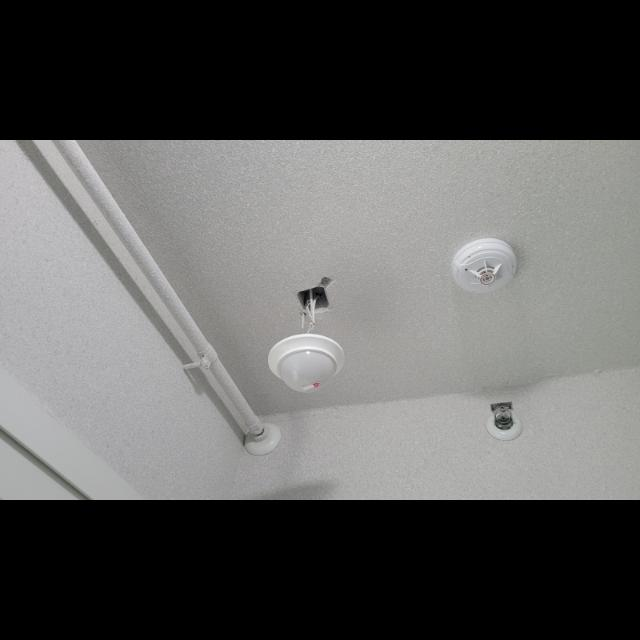Smoke-Detector: (454, 238, 516, 294)
